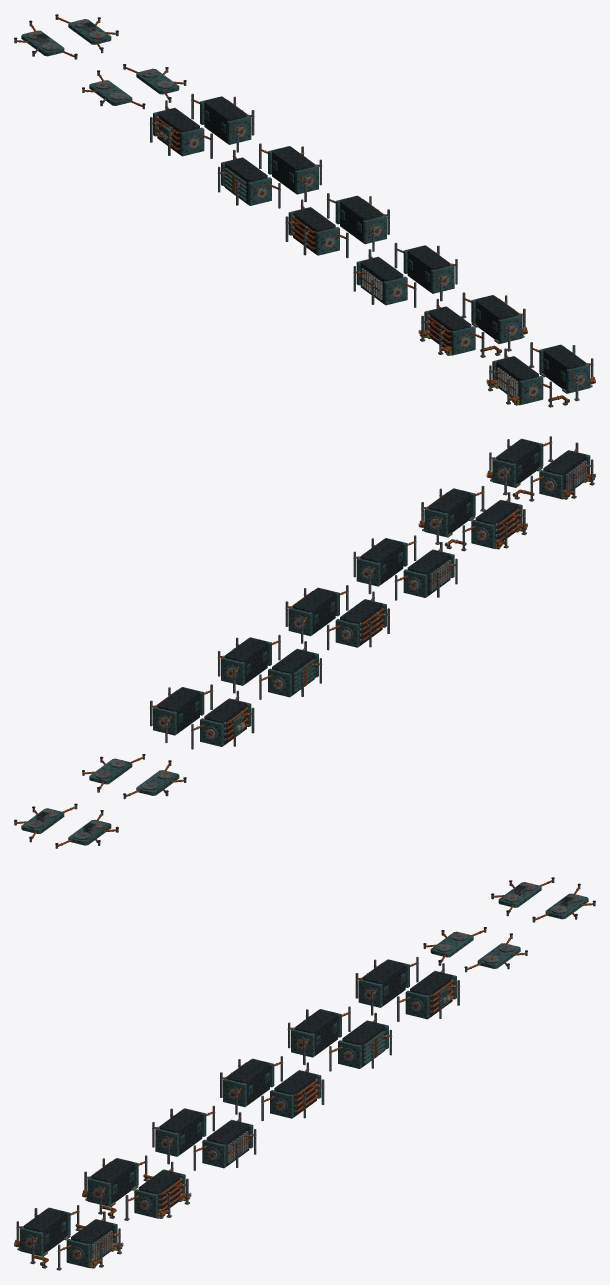
Rendered from heavy_industrial_a.glb.
3 views of the same model, one above another, from view 1: azimuth 30°, elevation 25°; view 2: azimuth 150°, elevation 25°; view 3: azimuth 330°, elevation 25° (orthographic).
Parts seen in each view (by area): view 1: heavy_industrial_a-lod0-base1, heavy_industrial_a-lod0-base0, heavy_industrial_a-lod0-floor0, heavy_industrial_a-lod0-floor1, heavy_industrial_a-lod0-floor3, heavy_industrial_a-lod0-floor2, heavy_industrial_a-lod0-roof1, heavy_industrial_a-lod0-roof0; view 2: heavy_industrial_a-lod0-base1, heavy_industrial_a-lod0-base0, heavy_industrial_a-lod0-floor0, heavy_industrial_a-lod0-floor3, heavy_industrial_a-lod0-floor1, heavy_industrial_a-lod0-floor2, heavy_industrial_a-lod0-roof0, heavy_industrial_a-lod0-roof1; view 3: heavy_industrial_a-lod0-base1, heavy_industrial_a-lod0-base0, heavy_industrial_a-lod0-floor3, heavy_industrial_a-lod0-floor1, heavy_industrial_a-lod0-floor0, heavy_industrial_a-lod0-floor2, heavy_industrial_a-lod0-roof1, heavy_industrial_a-lod0-roof0.
Part boxes in pixels (left/top/right/bottom): heavy_industrial_a-lod0-base1: left=418, top=292, right=527, bottom=357; heavy_industrial_a-lod0-base0: left=486, top=342, right=595, bottom=407; heavy_industrial_a-lod0-floor0: left=353, top=242, right=457, bottom=307; heavy_industrial_a-lod0-floor1: left=285, top=193, right=389, bottom=258; heavy_industrial_a-lod0-floor3: left=149, top=93, right=254, bottom=158; heavy_industrial_a-lod0-floor2: left=217, top=143, right=322, bottom=208; heavy_industrial_a-lod0-roof1: left=14, top=14, right=118, bottom=59; heavy_industrial_a-lod0-roof0: left=82, top=64, right=186, bottom=109; heavy_industrial_a-lod0-base1: left=418, top=486, right=527, bottom=551; heavy_industrial_a-lod0-base0: left=486, top=436, right=595, bottom=501; heavy_industrial_a-lod0-floor0: left=353, top=535, right=457, bottom=600; heavy_industrial_a-lod0-floor3: left=149, top=684, right=254, bottom=749; heavy_industrial_a-lod0-floor1: left=285, top=585, right=389, bottom=650; heavy_industrial_a-lod0-floor2: left=217, top=634, right=322, bottom=699; heavy_industrial_a-lod0-roof0: left=82, top=754, right=186, bottom=799; heavy_industrial_a-lod0-roof1: left=14, top=803, right=118, bottom=848; heavy_industrial_a-lod0-base1: left=82, top=1155, right=191, bottom=1220; heavy_industrial_a-lod0-base0: left=14, top=1205, right=123, bottom=1270; heavy_industrial_a-lod0-floor3: left=355, top=956, right=460, bottom=1021; heavy_industrial_a-lod0-floor1: left=220, top=1056, right=324, bottom=1121; heavy_industrial_a-lod0-floor0: left=152, top=1105, right=256, bottom=1170; heavy_industrial_a-lod0-floor2: left=287, top=1006, right=392, bottom=1071; heavy_industrial_a-lod0-roof1: left=491, top=877, right=595, bottom=922; heavy_industrial_a-lod0-roof0: left=423, top=927, right=527, bottom=972.
Size of what is drawn, in the model's own units: 66.8 by 18 by 697.
1 material, 1 textured.
